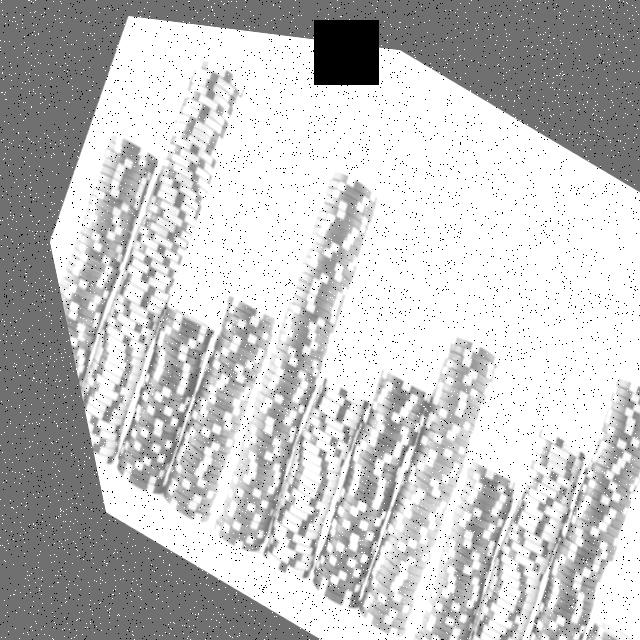Chip: (4, 23, 318, 498), (116, 134, 444, 583), (271, 291, 547, 640), (412, 329, 640, 640), (18, 111, 211, 467), (240, 337, 460, 625), (93, 264, 312, 547), (379, 392, 617, 640), (196, 346, 394, 595), (338, 421, 542, 640), (53, 278, 241, 515), (497, 585, 634, 640)
